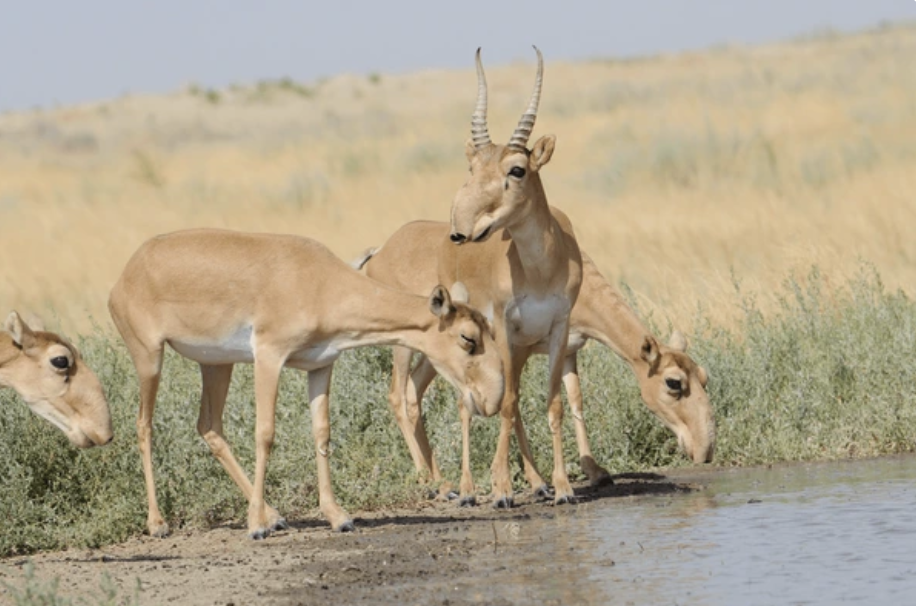saiga: (90, 222, 508, 543), (365, 50, 588, 520)
